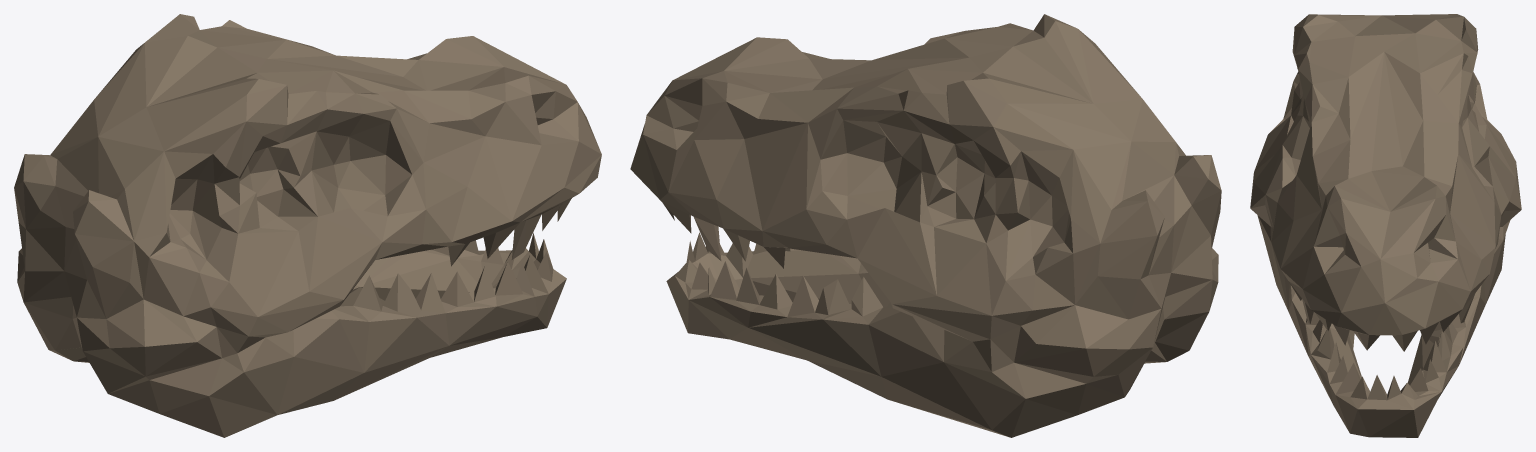
File: SM_LP_Fossil_2.fbx
The picture shows the model from 3 angles, left to right: view 1: azimuth 30°, elevation 25°; view 2: azimuth 150°, elevation 25°; view 3: azimuth 270°, elevation 25°; orthographic projection. The views are drawn at different scales.
Parts seen in each view (by area): view 1: SM_LP_Fossil_2; view 2: SM_LP_Fossil_2; view 3: SM_LP_Fossil_2.
Boxes of the visible parts, left/top/right/bottom form: SM_LP_Fossil_2: left=14, top=14, right=601, bottom=437; SM_LP_Fossil_2: left=630, top=14, right=1221, bottom=437; SM_LP_Fossil_2: left=1250, top=14, right=1521, bottom=437.
Bounding box in the file's own units: 1.06 × 0.6458 × 0.5346.
